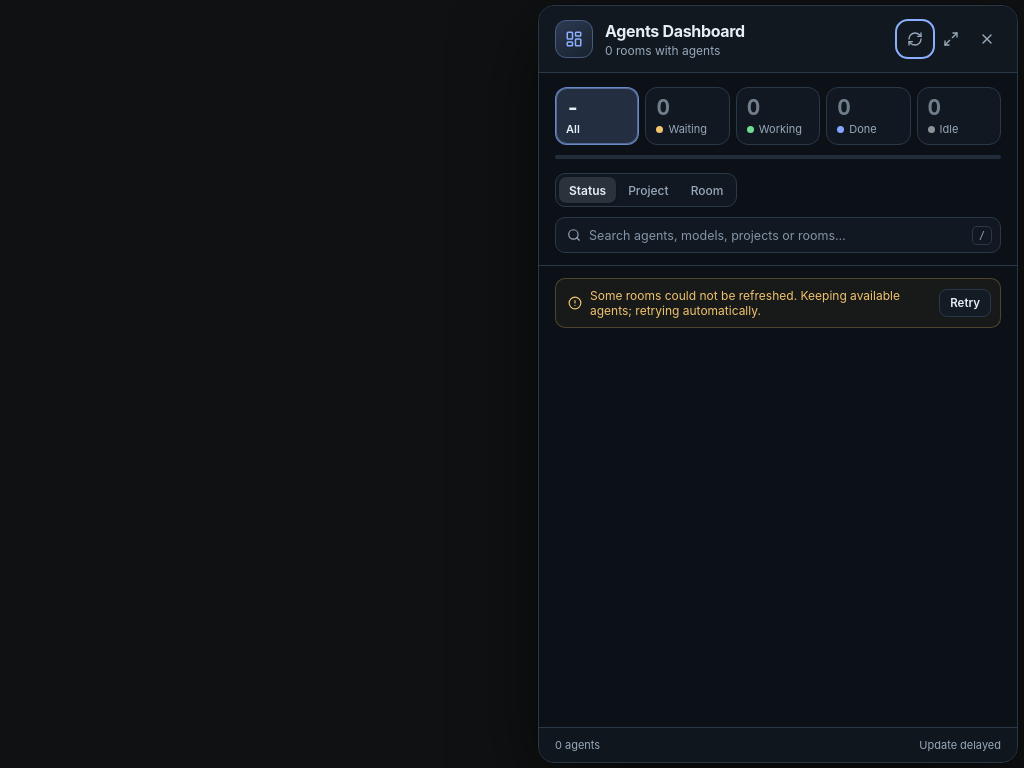
Scenario: agents dashboard › treats an incomplete response as a failed refresh and offers a retry
Expected: the message is shown, [555,278,1001,328]
Step 1. Click the button "Retry" → (965, 303), box [939,289,991,317]
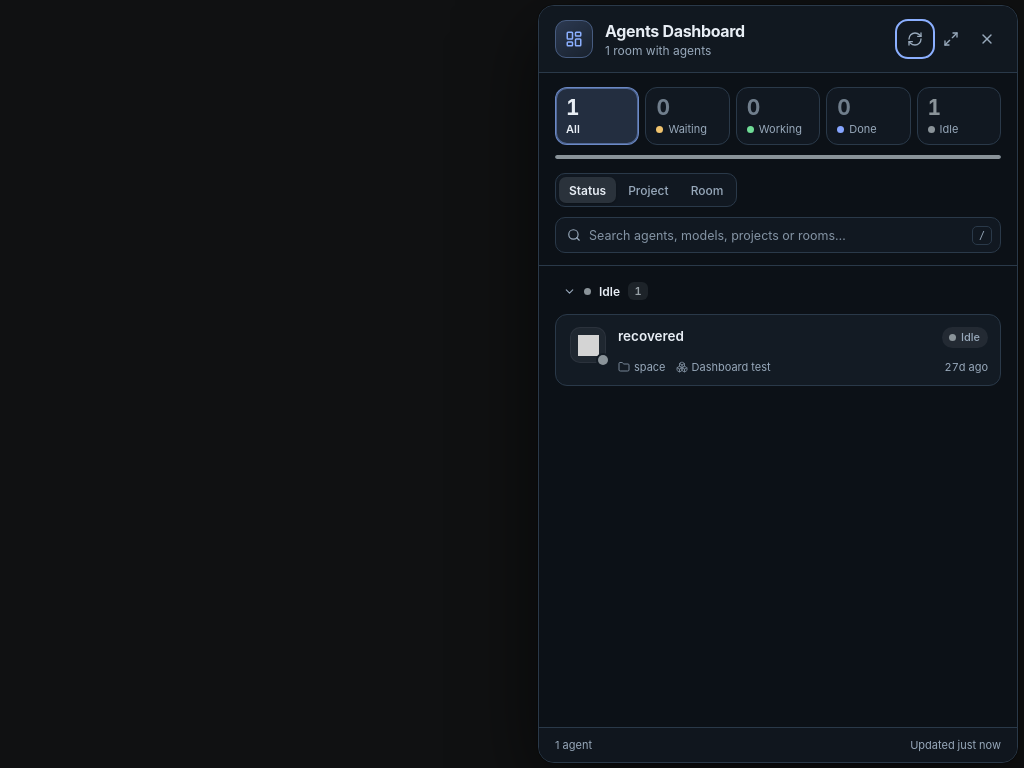
Result: the button with aria-label "Open recovered in Dashboard test" is shown at [555,314,1001,386]
Result: the message is gone
